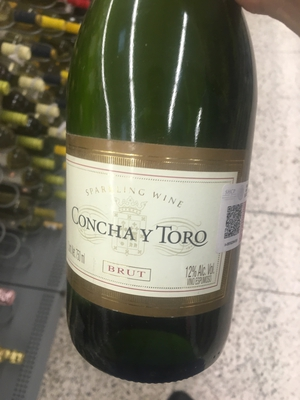brut: (57, 18, 249, 380)
